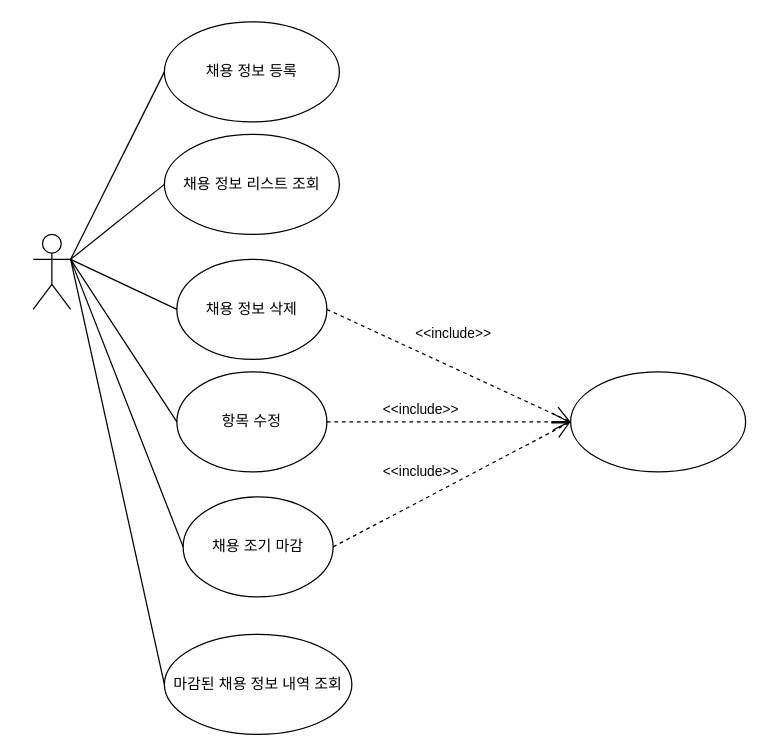
The diagram is 768 pixels wide and 756 high, and some of its shapes have lost their labels. The shapes that lost their labels are listed below. From the top down, each one's centre as x and y in pixels, then its label:
At pixel 51 271: "회사 회원".
At pixel 657 421: "특정 채용 정보 상세 조회".
